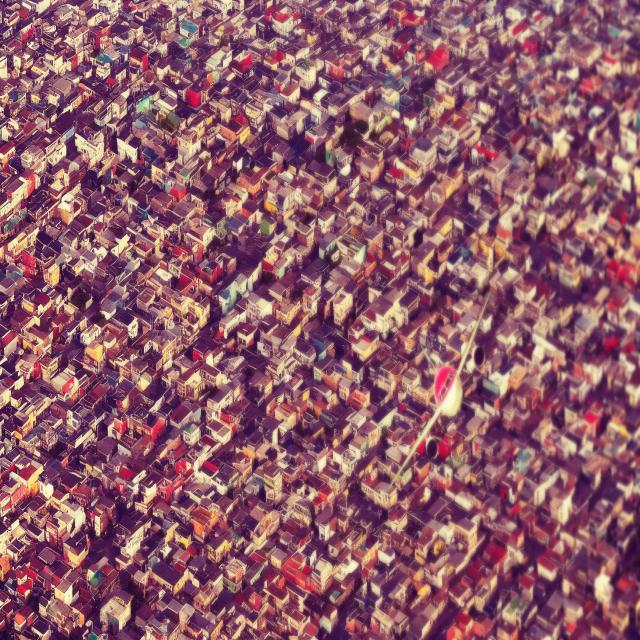airplane: (386, 292, 492, 490)
